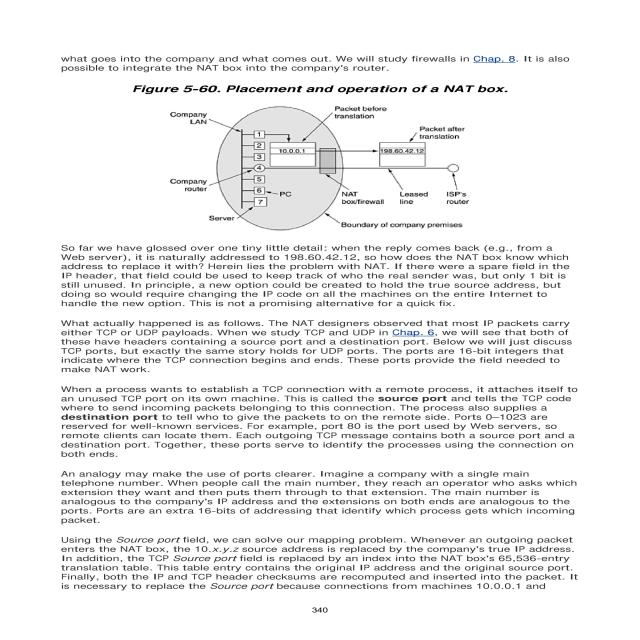diagram: (100, 76, 568, 240)
